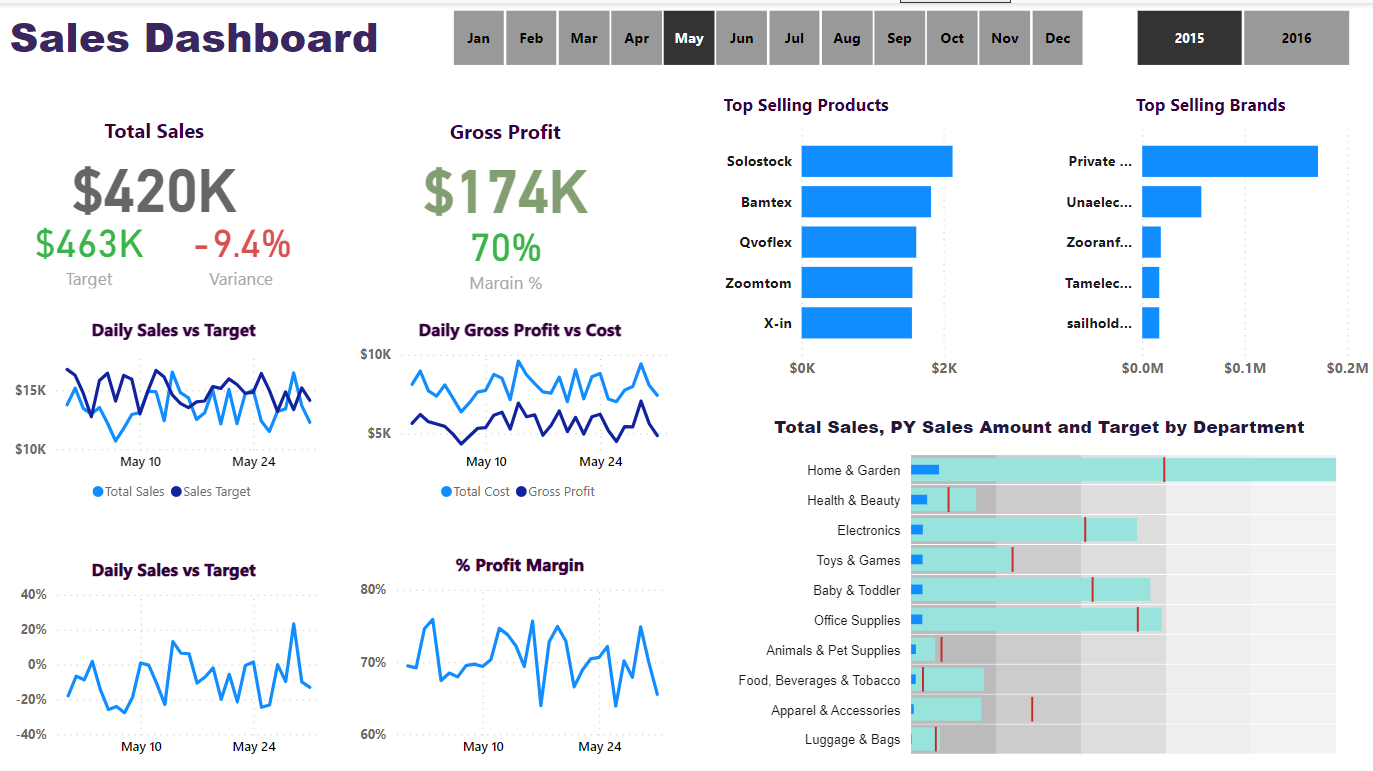

The dashboard page shown, as its layout file describes it:
{"tool":"powerbi","page":{"name":"Sales","canvas":[1280,720],"ordinal":0},"visuals":[{"type":"card","title":"Total Sales","fields":{"Values":["All Measures.Total Sales"]},"box":[4.9,106.1,281.2,97.8],"z":0},{"type":"slicer","title":"Year","fields":{"Values":["Calender Table.Year"]},"box":[1033.3,0,247,64.5],"z":1000},{"type":"slicer","title":"Year","fields":{"Values":["Calender Table.Month"]},"box":[397.9,0,635.3,64.5],"z":2000},{"type":"PBI_CV_7B952816_A48F_49B4_9E13_15E3BB2C0337","fields":{"Values":["All Measures.Sales Target"],"target":["All Measures.Total Sales"]},"box":[11,198,149.1,73.3],"z":3000},{"type":"PBI_CV_7B952816_A48F_49B4_9E13_15E3BB2C0337","fields":{"Values":["All Measures.% Sales Target"],"states":["All Measures.Blank Target"]},"box":[160.1,198,132,73.3],"z":4000},{"type":"lineChart","title":"Daily Sales vs Target","fields":{"Y":["All Measures.Total Sales","All Measures.Sales Target"],"Category":["Calender Table.Date"]},"box":[10.5,291.9,305.8,181.4],"z":5000},{"type":"lineChart","title":"Daily Sales vs Target","fields":{"Category":["Calender Table.Date"],"Y":["All Measures.% Sales Target"]},"box":[10.5,515.1,305.8,195.3],"z":6000},{"type":"card","title":"Gross Profit","fields":{"Values":["All Measures.Gross Profit"]},"box":[331.7,107,281.2,97.8],"z":7000},{"type":"PBI_CV_7B952816_A48F_49B4_9E13_15E3BB2C0337","fields":{"Values":["All Measures.Profit Margin %"],"target":["All Measures.Blank Target"]},"box":[403.8,204.8,138.1,67.2],"z":8000},{"type":"lineChart","title":"Daily Gross Profit vs Cost","fields":{"Category":["Calender Table.Date"],"Y":["All Measures.Total Cost","All Measures.Gross Profit"]},"box":[331.4,291.9,308.1,181.4],"z":9000},{"type":"lineChart","title":"% Profit Margin","fields":{"Category":["Calender Table.Date"],"Y":["All Measures.Profit Margin %"]},"box":[331.4,510.5,308.1,200],"z":10000},{"type":"barChart","title":"Top Selling Products","fields":{"Category":["Product.Product Name"],"Y":["All Measures.Total Sales"]},"box":[669.8,82.6,293,276.7],"z":11000},{"type":"barChart","title":"Top Selling Brands","fields":{"Y":["All Measures.Total Sales"],"Category":["Brand.Brand Name"]},"box":[975.6,82.6,304.7,276.7],"z":12000},{"type":"PBI_CV_9272D058_BEA0_476A_B090_A712545F92FA","title":"Total Sales, PY Sales Amount and Target by Department","fields":{"Category":["Category.Department"],"Value":["All Measures.Total Sales"],"targets":["Sum(CategoryTargets.Target)"],"ComparisonValue":["Sum(CategoryTargets.PY Sales Amount)"]},"box":[669.8,382.6,597.7,327.9],"z":13000},{"type":"textbox","box":[5.5,0,365,71.4],"z":14000}]}

Visuals, with their boxes in screenshot pixels (x1, y1, x2, y2), scaled from the page's 1280x720 canvas onto the 1373x771 screenshot:
"Total Sales" card: 5:114:307:218
"Year" slicer: 1108:0:1372:69
"Year" slicer: 427:0:1108:69
PBI_CV_7B952816_A48F_49B4_9E13_15E3BB2C0337 - All Measures.Sales Target x All Measures.Total Sales: 12:212:172:291
PBI_CV_7B952816_A48F_49B4_9E13_15E3BB2C0337 - All Measures.% Sales Target x All Measures.Blank Target: 172:212:313:291
"Daily Sales vs Target" lineChart: 11:313:339:507
"Daily Sales vs Target" lineChart: 11:552:339:761
"Gross Profit" card: 356:115:657:219
PBI_CV_7B952816_A48F_49B4_9E13_15E3BB2C0337 - All Measures.Profit Margin % x All Measures.Blank Target: 433:219:581:291
"Daily Gross Profit vs Cost" lineChart: 355:313:686:507
"% Profit Margin" lineChart: 355:547:686:761
"Top Selling Products" barChart: 718:88:1033:385
"Top Selling Brands" barChart: 1046:88:1372:385
"Total Sales, PY Sales Amount and Target by Department" PBI_CV_9272D058_BEA0_476A_B090_A712545F92FA: 718:410:1360:761
textbox: 6:0:397:76
